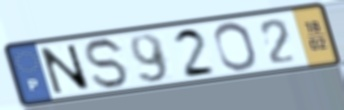2: (172, 27, 218, 78), (259, 18, 298, 66)
9: (129, 32, 171, 84)
N: (37, 43, 94, 96)
O: (211, 20, 260, 72)
S: (84, 36, 132, 91)
